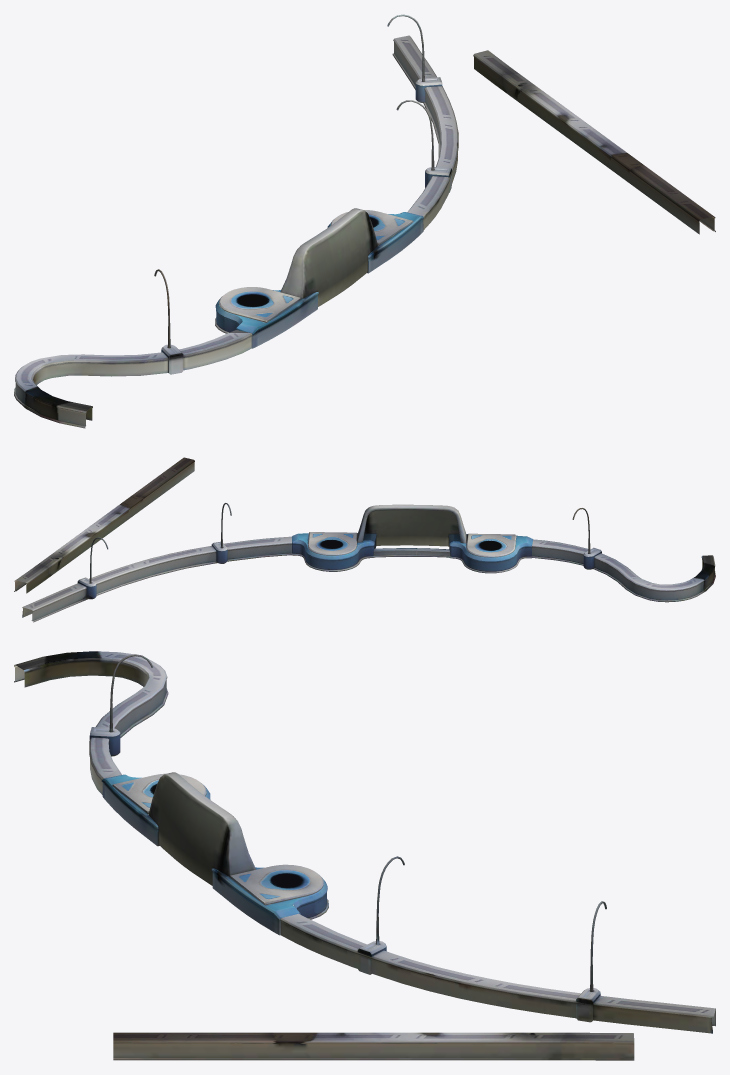
Rendered from pref_sm_4v4beachtech_bk_topblock_L01a_lv0.fbx.
3 renders of one model, top to bottom at view 1: azimuth 30°, elevation 25°; view 2: azimuth 150°, elevation 25°; view 3: azimuth 270°, elevation 25°, orthographic. The views are drawn at different scales.
Visible parts, largest first — view 1: sm_4v4beachtech_bk_topblock_L01a_lv0; view 2: sm_4v4beachtech_bk_topblock_L01a_lv0; view 3: sm_4v4beachtech_bk_topblock_L01a_lv0.
Boxes of the visible parts, x1,y1,x2,y2 form: sm_4v4beachtech_bk_topblock_L01a_lv0: [14, 14, 715, 428]; sm_4v4beachtech_bk_topblock_L01a_lv0: [14, 457, 715, 622]; sm_4v4beachtech_bk_topblock_L01a_lv0: [14, 651, 715, 1060].
Bounding box in the file's own units: 42.31 × 5.07 × 32.04.
